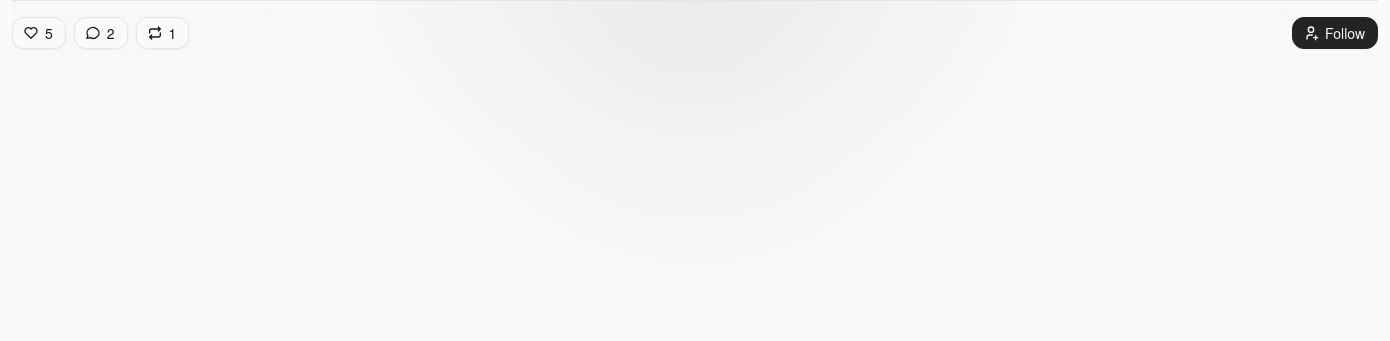
feed components › loads and shows comments when the comments button is toggled
The image size is (1390, 341).
Step 1. Click the button named "toggle comments" → (101, 33), box [74,17,128,49]
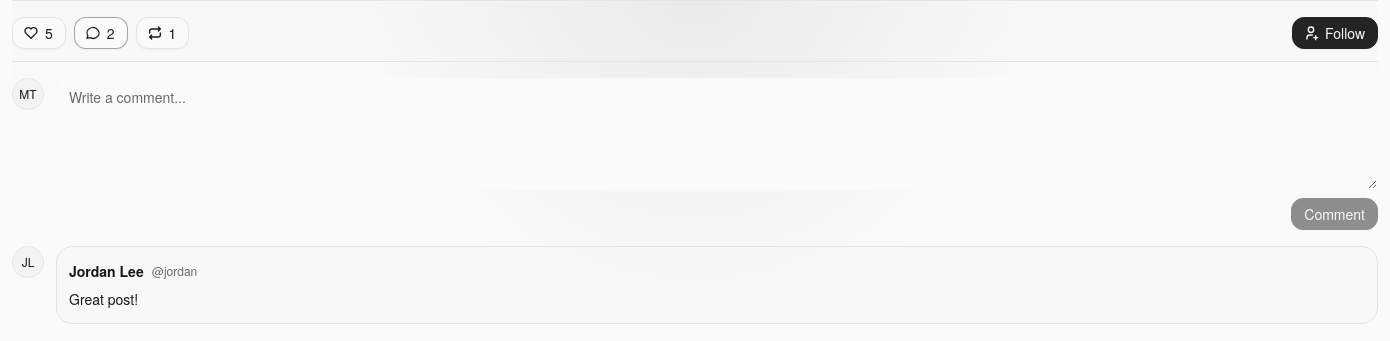
expect the text "Great post!" is shown: met, box [69,289,138,309]
Step 2. Click the button named "toggle comments" → (101, 33), box [74,17,128,49]
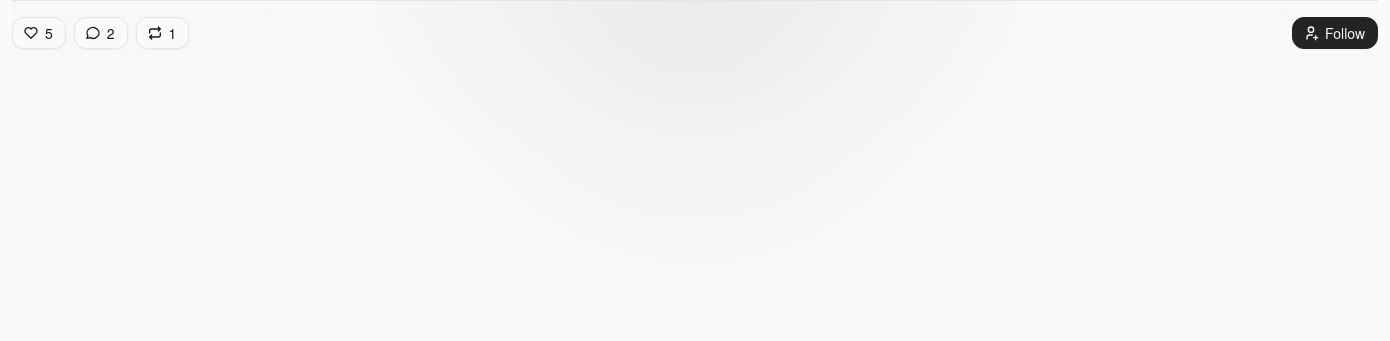
expect the text "Great post!" is gone: met
